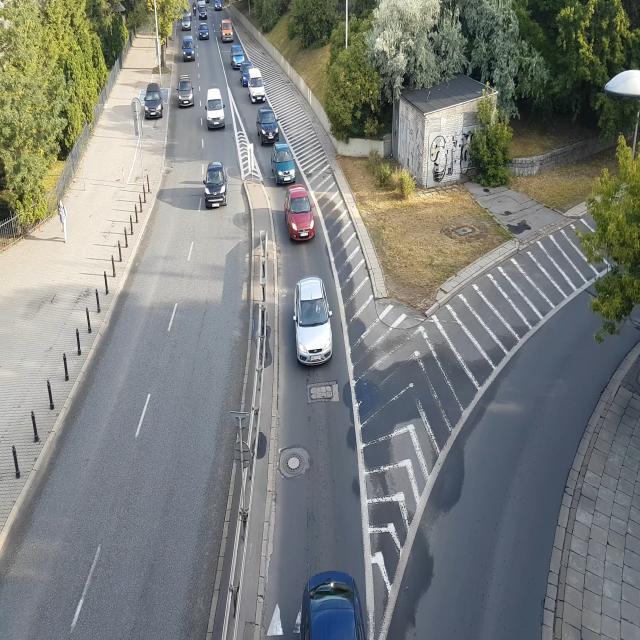car: (296, 575, 364, 640), (296, 274, 332, 365), (286, 190, 317, 244), (204, 79, 228, 133), (274, 143, 298, 185), (204, 166, 227, 209), (257, 108, 280, 144), (142, 86, 165, 120), (178, 79, 192, 113), (249, 72, 264, 103), (231, 44, 245, 69), (221, 19, 233, 44), (183, 36, 194, 62), (240, 62, 252, 85), (182, 7, 190, 27), (198, 27, 209, 39), (215, 0, 223, 14), (197, 4, 207, 15)
motorcycle: (191, 0, 197, 16)
